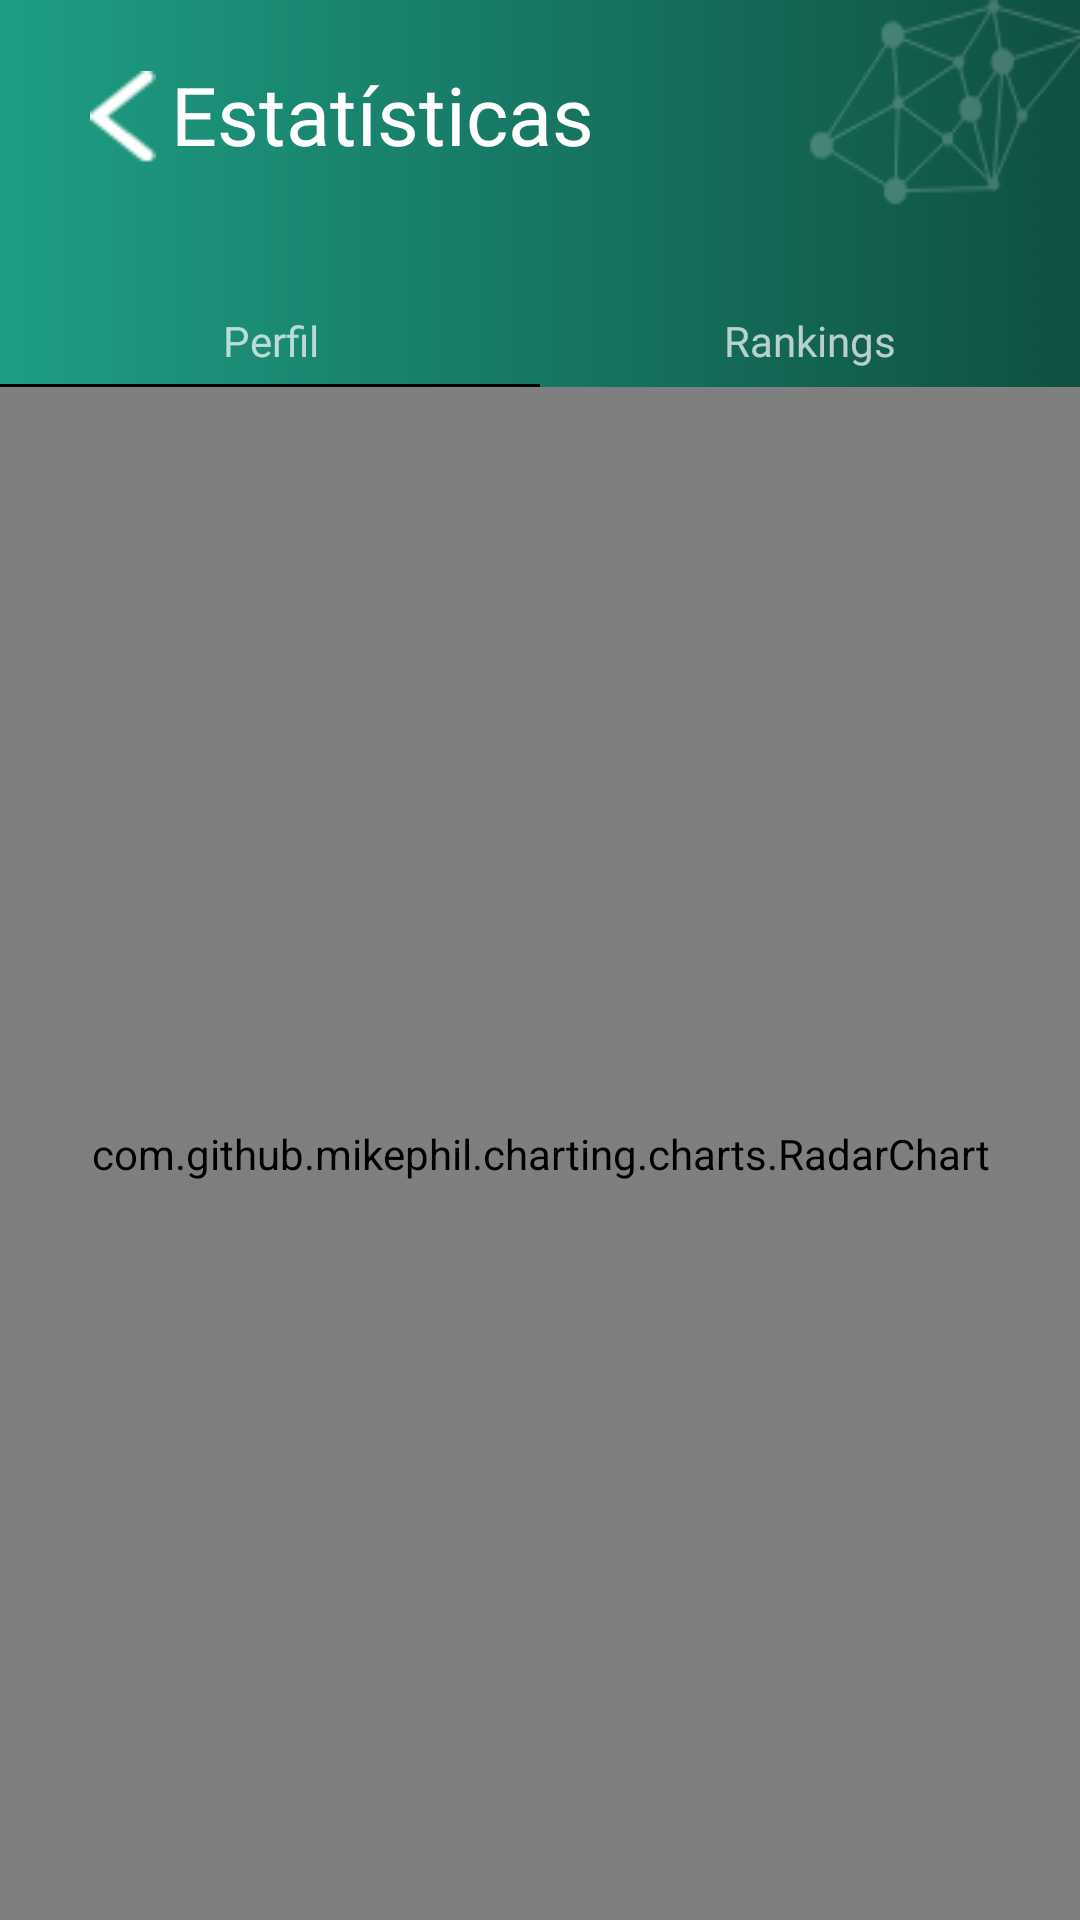

Icon click points for this 1080 x 1920 phone screenshot, format [x,y]:
back arrow: [123,116]
